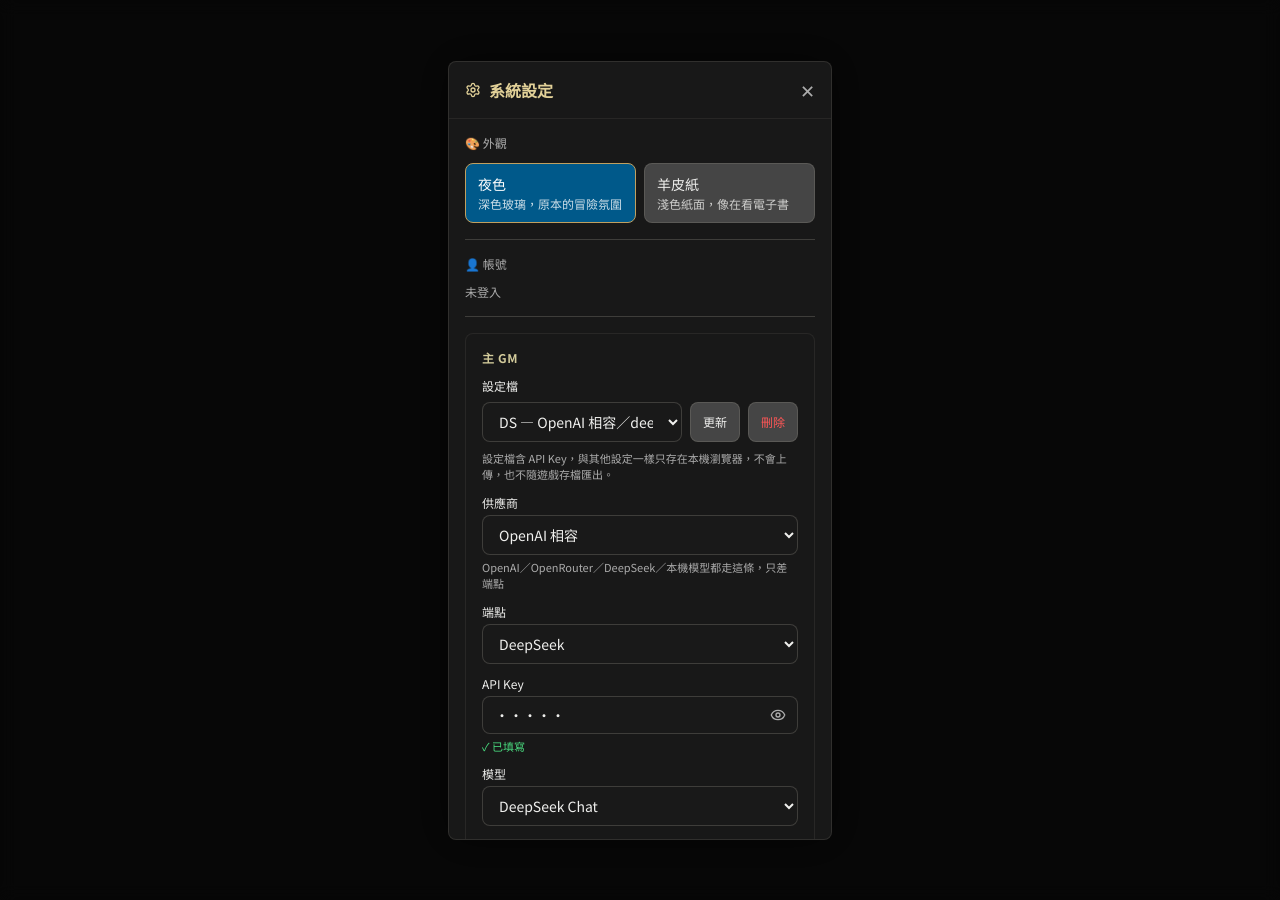
Test: SettingsModal — 設定檔 › 改掉型號之後下拉退回「未套用」，不會繼續掛著一個不成立的名字
The width and height of the screenshot is (1280, 900).
Expected: the dropdown named "設定檔" shows "DS — OpenAI 相容／deepseek-chat", [482,402,682,442]
Step 1. Select "DeepSeek Reasoner（推理）" in the dropdown named "模型" → coordinates (640, 806), box [482,786,798,826]
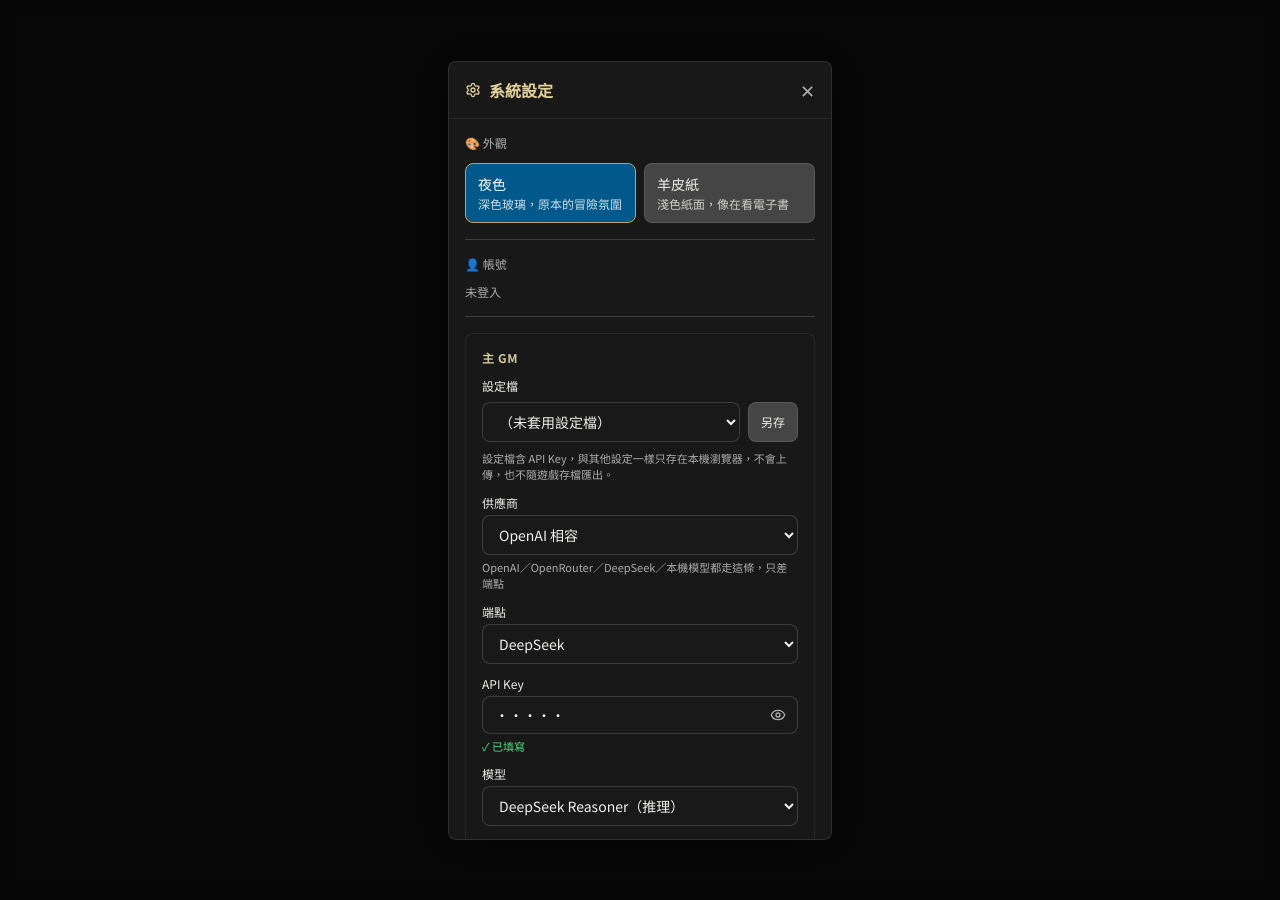
Expected: the dropdown named "設定檔" shows "（未套用設定檔）", [482,402,740,442]
